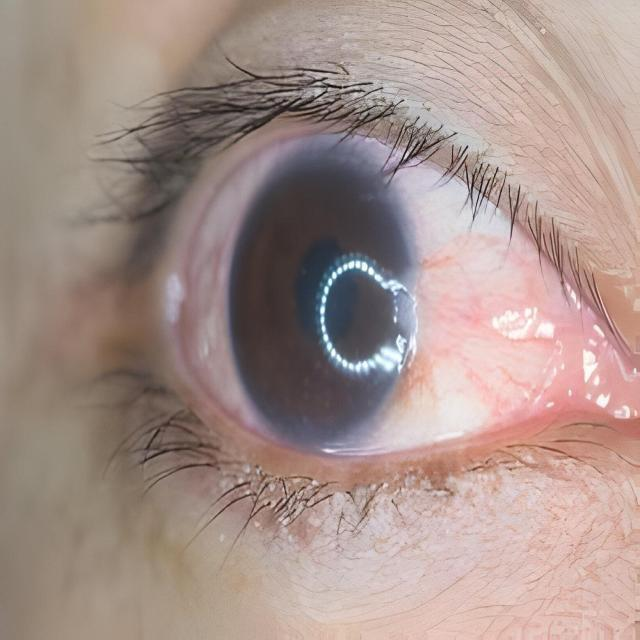Pterygium: (402, 208, 626, 442)
